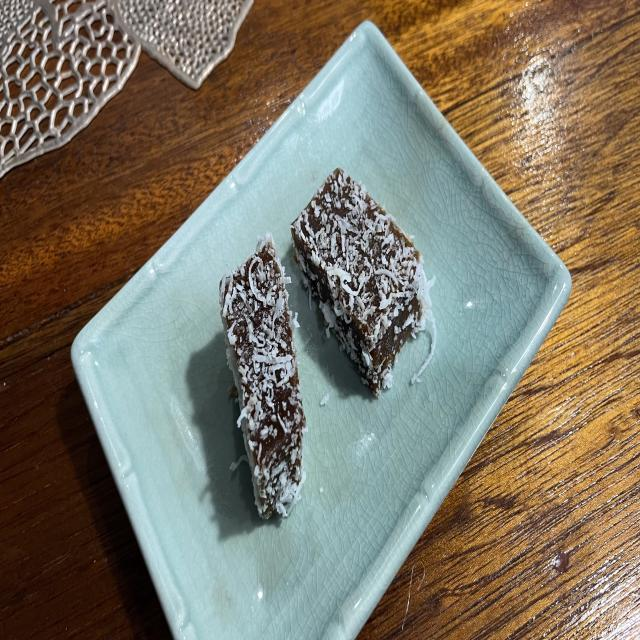kaswi: (291, 169, 436, 398), (220, 231, 306, 518)
